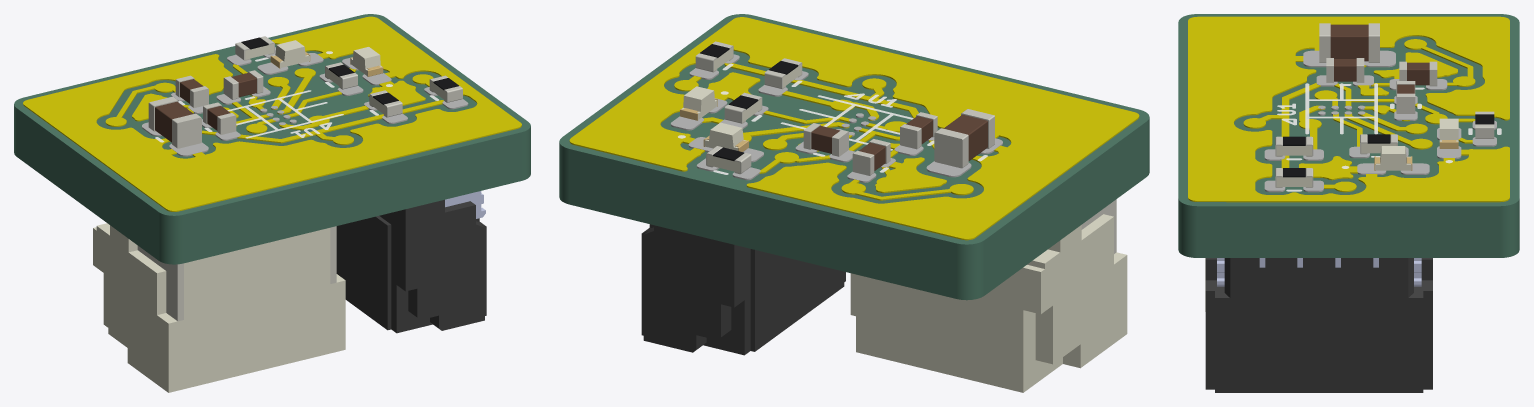
The model's file is MCPM0C1104 board DSBGA.glb.
3 views of the same model, side by side, from view 1: azimuth 30°, elevation 25°; view 2: azimuth 150°, elevation 25°; view 3: azimuth 270°, elevation 25° (orthographic). The views are drawn at different scales.
Visible parts, largest first — view 1: =>[0:1:1:12], =>[0:1:1:8], J1, J4, =>[0:1:1:9], C4, =>[0:1:1:11], C3, C1, C2, D1, D2 (+5 smaller); view 2: =>[0:1:1:12], =>[0:1:1:8], J1, J4, =>[0:1:1:9], C4, =>[0:1:1:11], C3, C1, C2, D2, R1 (+5 smaller); view 3: =>[0:1:1:8], =>[0:1:1:12], J4, =>[0:1:1:9], C4, =>[0:1:1:11], C2, C1, D2, R4, R3, C3 (+4 smaller).
Part boxes in pixels (box(x1,y1,x2,y2)): =>[0:1:1:12]: box(14, 14, 530, 264); =>[0:1:1:8]: box(23, 16, 521, 211); J1: box(93, 223, 345, 392); J4: box(336, 191, 486, 333); =>[0:1:1:9]: box(142, 47, 468, 156); C4: box(148, 96, 201, 148); =>[0:1:1:11]: box(155, 51, 438, 142); C3: box(223, 70, 263, 99); C1: box(175, 75, 208, 107); C2: box(203, 102, 236, 134); D1: box(270, 40, 310, 68); D2: box(350, 47, 383, 76); =>[0:1:1:12]: box(559, 14, 1149, 300); =>[0:1:1:8]: box(569, 17, 1139, 240); J1: box(850, 199, 1127, 392); J4: box(641, 224, 845, 355); =>[0:1:1:9]: box(670, 54, 1002, 182); C4: box(934, 109, 994, 168); =>[0:1:1:11]: box(678, 63, 987, 174); C3: box(803, 123, 848, 156); C1: box(852, 139, 890, 175); C2: box(900, 112, 937, 149); D2: box(680, 86, 717, 120); R1: box(706, 146, 751, 174); =>[0:1:1:8]: box(1188, 16, 1509, 202); =>[0:1:1:12]: box(1178, 14, 1519, 257); J4: box(1205, 258, 1432, 392); =>[0:1:1:9]: box(1264, 50, 1496, 192); C4: box(1319, 23, 1379, 62); =>[0:1:1:11]: box(1277, 83, 1501, 191); C2: box(1326, 58, 1364, 82); C1: box(1399, 61, 1437, 86); D2: box(1374, 146, 1412, 170); R4: box(1275, 136, 1313, 156); R3: box(1275, 168, 1313, 187); C3: box(1396, 81, 1415, 113).
Size of the model in its own units: 0.012 by 0.00683 by 0.009.
